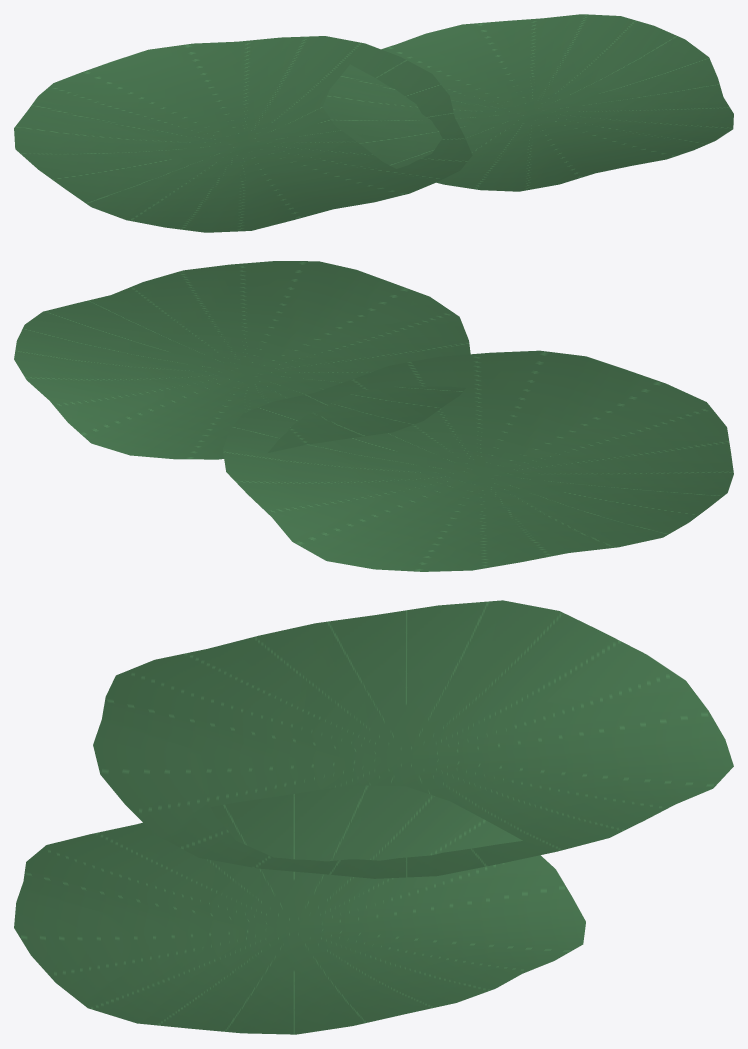
File: CP03-L02-leaf-pair.glb
3 views of the same model, one above another, from view 1: azimuth 30°, elevation 25°; view 2: azimuth 150°, elevation 25°; view 3: azimuth 270°, elevation 25° (orthographic). The views are drawn at different scales.
Visible parts, largest first — view 1: CP03-L02-leaf-pair; view 2: CP03-L02-leaf-pair; view 3: CP03-L02-leaf-pair.
Part boxes in pixels (x1,y1,x2,y2): CP03-L02-leaf-pair: (14, 14, 733, 232); CP03-L02-leaf-pair: (14, 261, 733, 571); CP03-L02-leaf-pair: (14, 600, 733, 1034).
Bounding box in the file's own units: 2.16 × 0.06 × 1.54.
Materials: 1 (1 with a texture image).
